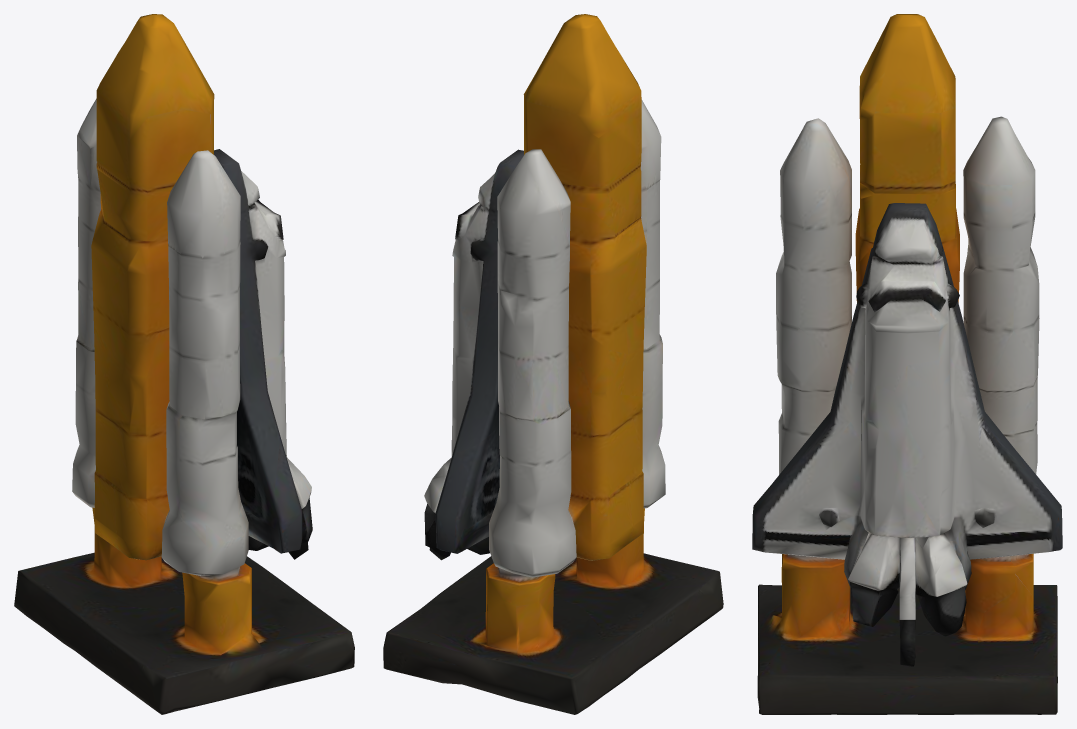
Rendered from space-shuttle.glb.
The picture shows the model from 3 angles, left to right: view 1: azimuth 30°, elevation 25°; view 2: azimuth 150°, elevation 25°; view 3: azimuth 270°, elevation 25°; orthographic projection.
Visible parts, largest first — view 1: tripo_node_2c406aa5-4224-4a60-9a77-8aff38467113; view 2: tripo_node_2c406aa5-4224-4a60-9a77-8aff38467113; view 3: tripo_node_2c406aa5-4224-4a60-9a77-8aff38467113.
Boxes of the visible parts, x1,y1,x2,y2 form: tripo_node_2c406aa5-4224-4a60-9a77-8aff38467113: (14,14,354,714); tripo_node_2c406aa5-4224-4a60-9a77-8aff38467113: (383,14,723,714); tripo_node_2c406aa5-4224-4a60-9a77-8aff38467113: (752,14,1062,714).
Size of the model in its own units: 0.3625 by 1 by 0.4406.
Materials: 1 (1 with a texture image).
